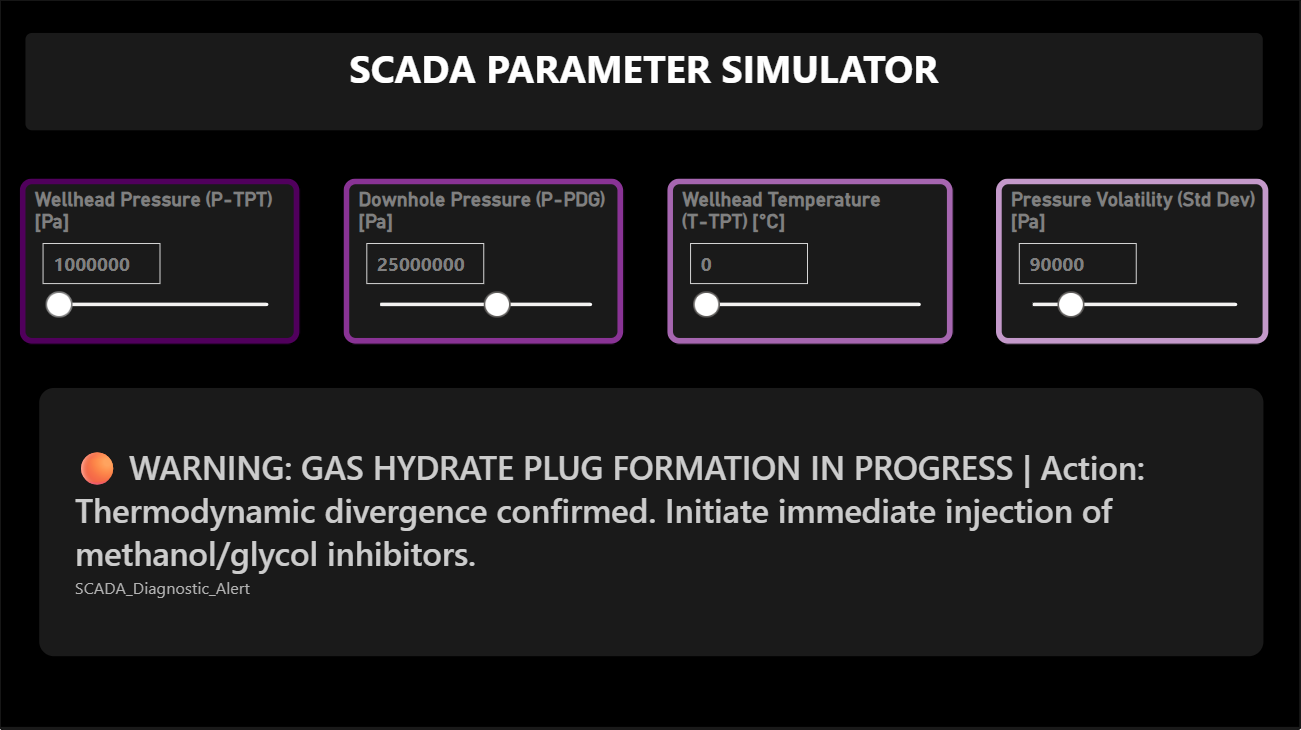

What the dashboard file says about the page in this screenshot:
{"tool":"powerbi","page":{"name":"Page 4","canvas":[1280,720],"ordinal":3},"visuals":[{"type":"shape","box":[0,0,1280,720],"z":0},{"type":"slicer","title":"Wellhead Pressure (P-TPT) [Pa]","fields":{"Values":["Simulated P-TPT.Simulated P-TPT"]},"box":[23.2,178.5,273.9,161.4],"z":1000},{"type":"slicer","title":"Downhole Pressure (P-PDG) [Pa]","fields":{"Values":["Simulated P-PDG.Simulated P-PDG"]},"box":[339.9,178.5,273.9,161.4],"z":2000},{"type":"slicer","title":"Wellhead Temperature (T-TPT) [°C]","fields":{"Values":["T-TPT.T-TPT"]},"box":[656.7,178.5,278.8,161.4],"z":3000},{"type":"slicer","title":"Pressure Volatility (Std Dev) [Pa]","fields":{"Values":["Simulated Volatility.Simulated Volatility"]},"box":[978.3,178.5,266.6,161.4],"z":4000},{"type":"cardVisual","fields":{"Data":["balanced_master_data.SCADA_Diagnostic_Alert"]},"box":[36.2,377.5,1208.8,273.8],"z":5000},{"type":"textbox","box":[23.3,30,1221.7,106.7],"z":6000}]}

Visuals, with their boxes in screenshot pixels (x1, y1, x2, y2), scaled from the page's 1280x720 canvas onto the 1301x730 screenshot:
shape: x1=0 y1=0 x2=1300 y2=729
"Wellhead Pressure (P-TPT) [Pa]" slicer: x1=24 y1=181 x2=302 y2=345
"Downhole Pressure (P-PDG) [Pa]" slicer: x1=345 y1=181 x2=624 y2=345
"Wellhead Temperature (T-TPT) [°C]" slicer: x1=667 y1=181 x2=951 y2=345
"Pressure Volatility (Std Dev) [Pa]" slicer: x1=994 y1=181 x2=1265 y2=345
cardVisual - balanced_master_data.SCADA_Diagnostic_Alert: x1=37 y1=383 x2=1265 y2=660
textbox: x1=24 y1=30 x2=1265 y2=139
